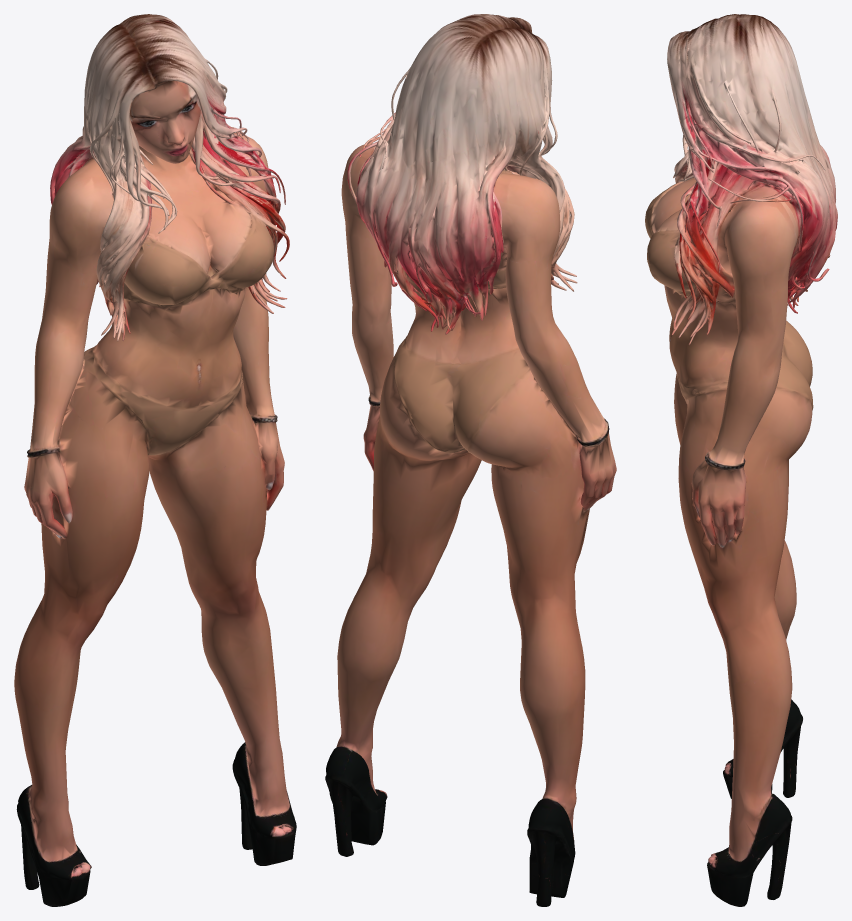
The model's file is modgirl.glb.
The picture shows the model from 3 angles, left to right: view 1: azimuth 30°, elevation 25°; view 2: azimuth 150°, elevation 25°; view 3: azimuth 270°, elevation 25°; orthographic projection. The views are drawn at different scales.
Bounding box in the file's own units: 0.6194 × 1.9 × 0.4031.
1 material, 1 textured.
